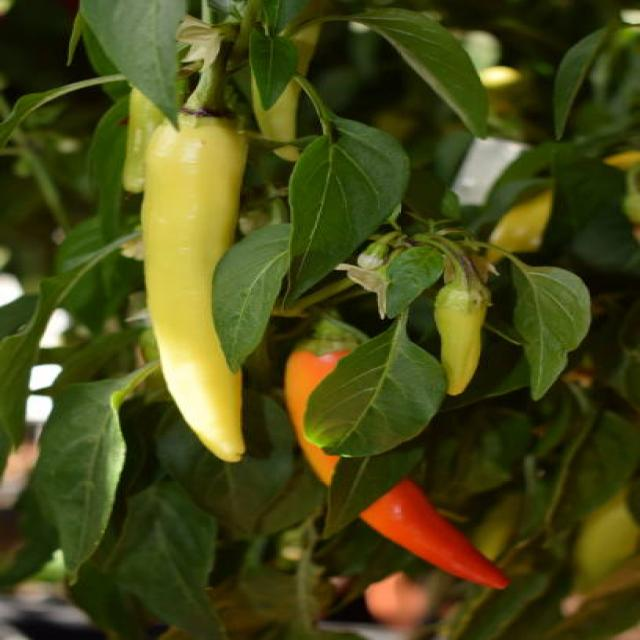Ripe: (359, 478, 505, 587), (285, 350, 348, 483)
Unripe: (141, 115, 248, 460), (435, 261, 488, 395)
